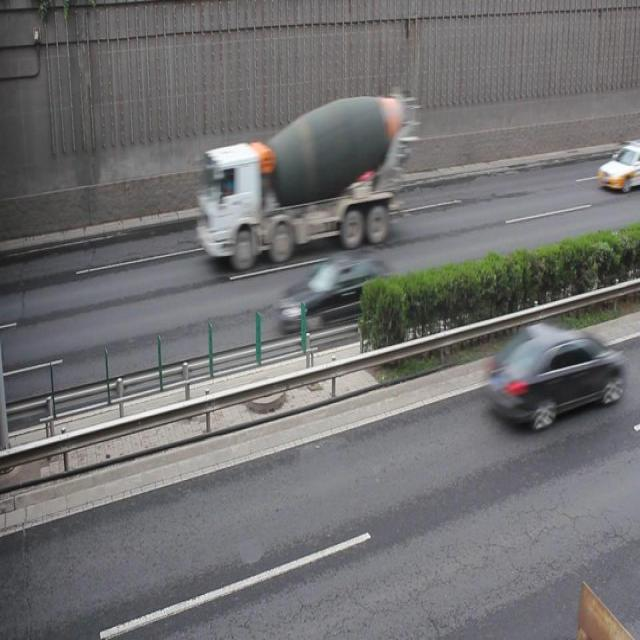bus: (196, 92, 406, 265)
car: (486, 320, 612, 424), (279, 255, 398, 340), (315, 153, 375, 213), (594, 140, 640, 192)
